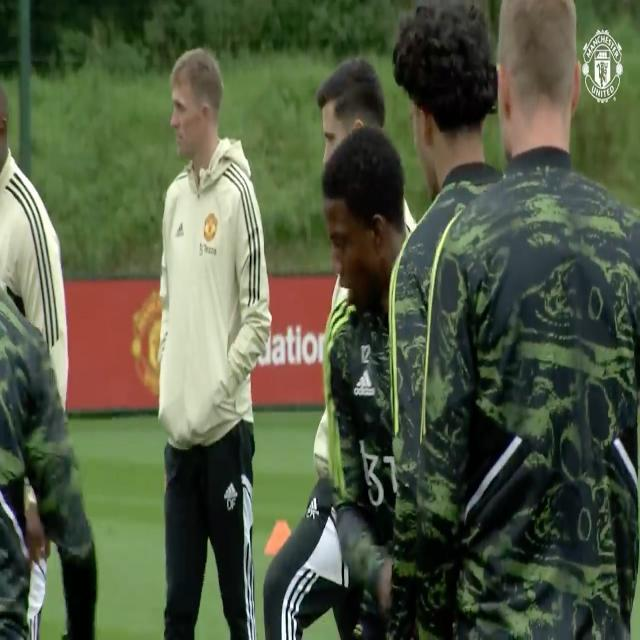Adidas: (353, 369, 376, 398), (223, 481, 238, 501), (174, 218, 185, 240)
